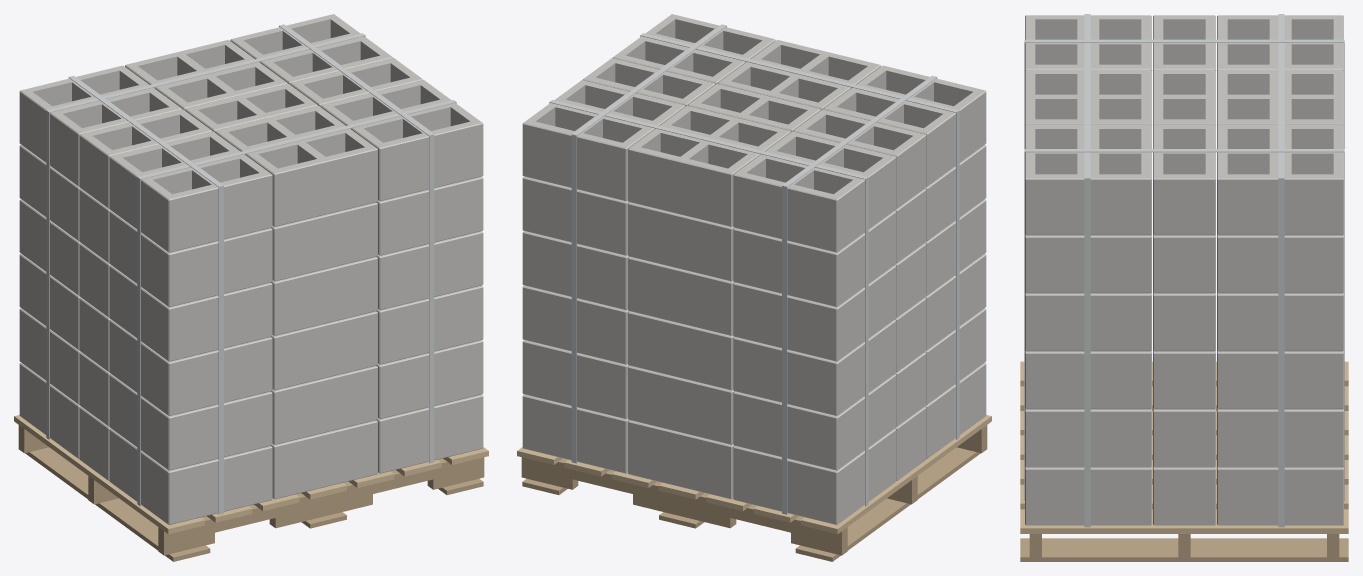
File: Pallet_of_CMU_Blocks.glb
3 renders of one model, left to right at view 1: azimuth 30°, elevation 25°; view 2: azimuth 150°, elevation 25°; view 3: azimuth 270°, elevation 25°, orthographic. The views are drawn at different scales.
Parts seen in each view (by area): view 1: blocks, bands, pallet_frame, pallet_deck; view 2: blocks, bands, pallet_frame, pallet_deck; view 3: blocks, bands, pallet_frame, pallet_deck.
Part boxes in pixels (<box>): blocks: <box>19,14,483,524</box>; bands: <box>46,24,456,514</box>; pallet_frame: <box>18,425,484,561</box>; pallet_deck: <box>14,415,488,534</box>; blocks: <box>522,14,986,524</box>; bands: <box>549,24,959,514</box>; pallet_frame: <box>521,425,987,561</box>; pallet_deck: <box>517,415,991,534</box>; blocks: <box>1025,15,1343,525</box>; bands: <box>1024,14,1344,527</box>; pallet_frame: <box>1020,534,1348,561</box>; pallet_deck: <box>1020,361,1348,533</box>.
Size of the model in its own units: 24.38 by 26.32 by 20.32.
